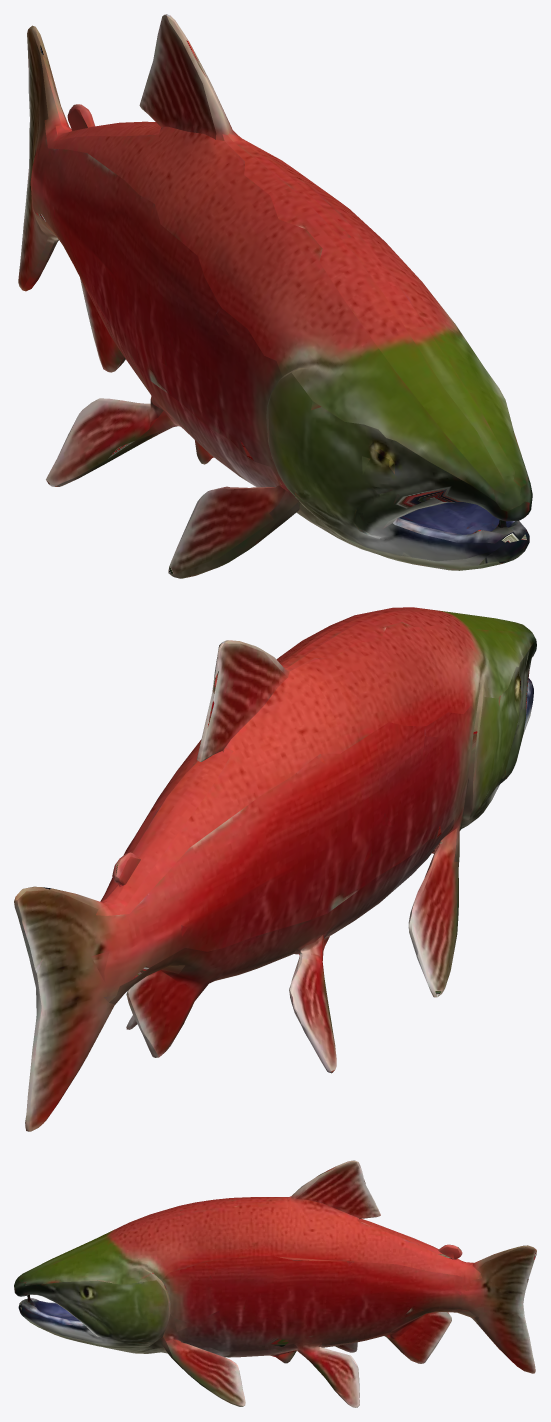
The model's file is sockeye_salmon.glb.
The picture shows the model from 3 angles, top to bottom: view 1: azimuth 30°, elevation 25°; view 2: azimuth 150°, elevation 25°; view 3: azimuth 270°, elevation 25°; orthographic projection. The views are drawn at different scales.
Parts seen in each view (by area): view 1: world; view 2: world; view 3: world.
Part boxes in pixels (x1=…): world: x1=18, y1=14, x2=532, y2=578; world: x1=14, y1=607, x2=536, y2=1131; world: x1=14, y1=1160, x2=536, y2=1407.
Bounding box in the file's own units: 0.2784 × 0.4713 × 1.
1 material, 1 textured.
